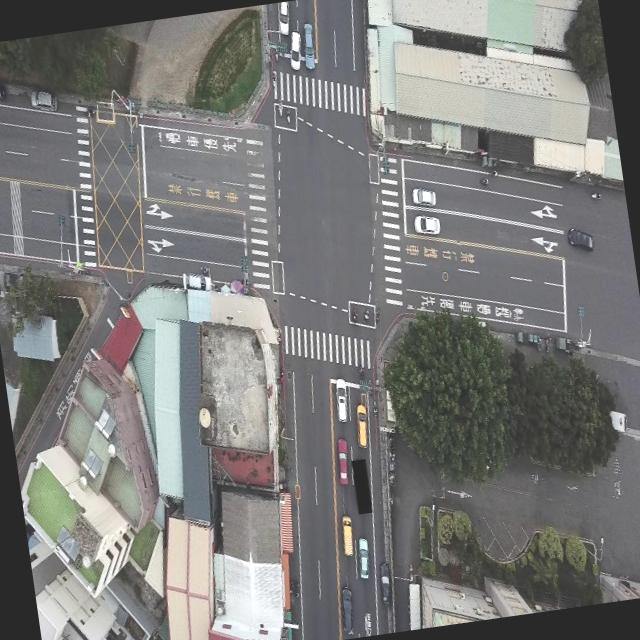bike: (590, 190, 602, 202)
car: (285, 24, 307, 74), (300, 20, 321, 72), (333, 436, 354, 487), (338, 586, 358, 634), (330, 378, 350, 424), (354, 404, 374, 449), (376, 559, 395, 605), (412, 210, 442, 238), (353, 537, 372, 581), (566, 225, 595, 252), (28, 87, 58, 113), (338, 514, 356, 556), (410, 184, 437, 208), (276, 1, 294, 35), (0, 73, 7, 101)
